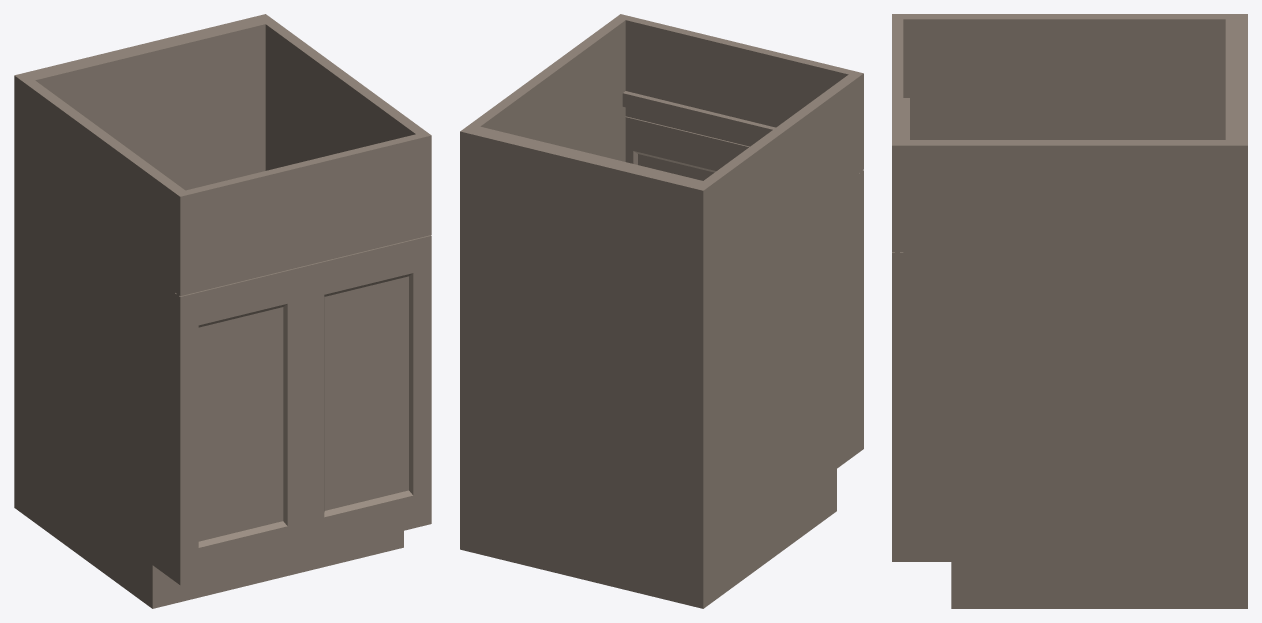
The model's file is Sink-Base-Cabinet-Double-Door-False-Drawer_std_001_W21in.glb.
3 renders of one model, left to right at view 1: azimuth 30°, elevation 25°; view 2: azimuth 150°, elevation 25°; view 3: azimuth 270°, elevation 25°, orthographic. The views are drawn at different scales.
Visible parts, largest first — view 1: Sink-Base-Cabinet-Double-Door-False-Drawer.std.001_W21in; view 2: Sink-Base-Cabinet-Double-Door-False-Drawer.std.001_W21in; view 3: Sink-Base-Cabinet-Double-Door-False-Drawer.std.001_W21in.
Boxes of the visible parts, x1=… form: Sink-Base-Cabinet-Double-Door-False-Drawer.std.001_W21in: x1=14, y1=14, x2=431, y2=608; Sink-Base-Cabinet-Double-Door-False-Drawer.std.001_W21in: x1=460, y1=14, x2=863, y2=608; Sink-Base-Cabinet-Double-Door-False-Drawer.std.001_W21in: x1=892, y1=14, x2=1247, y2=608.
Bounding box in the file's own units: 0.5334 × 0.8763 × 0.6096.
